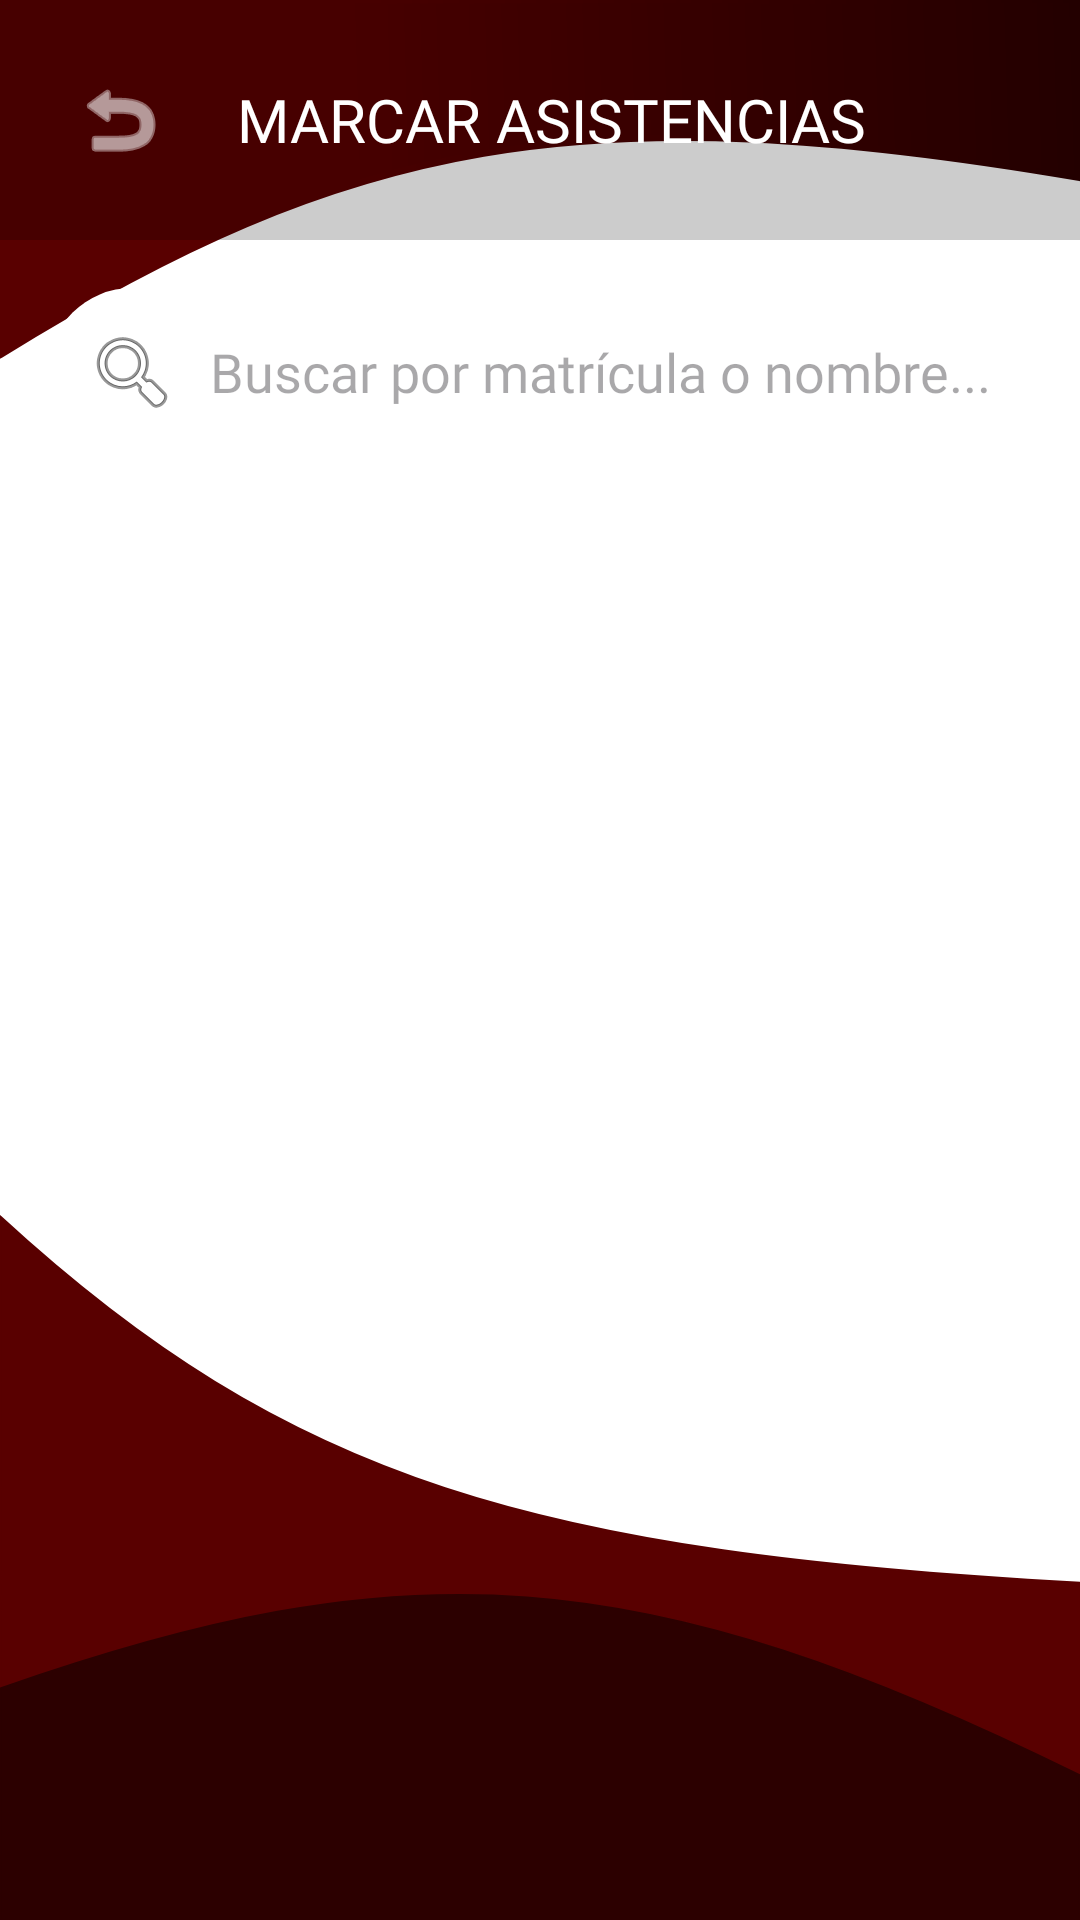

Where to tap for icons on this 1080×1920 app screen, as (x=x, y=y):
Regresar: (x=121, y=120)
